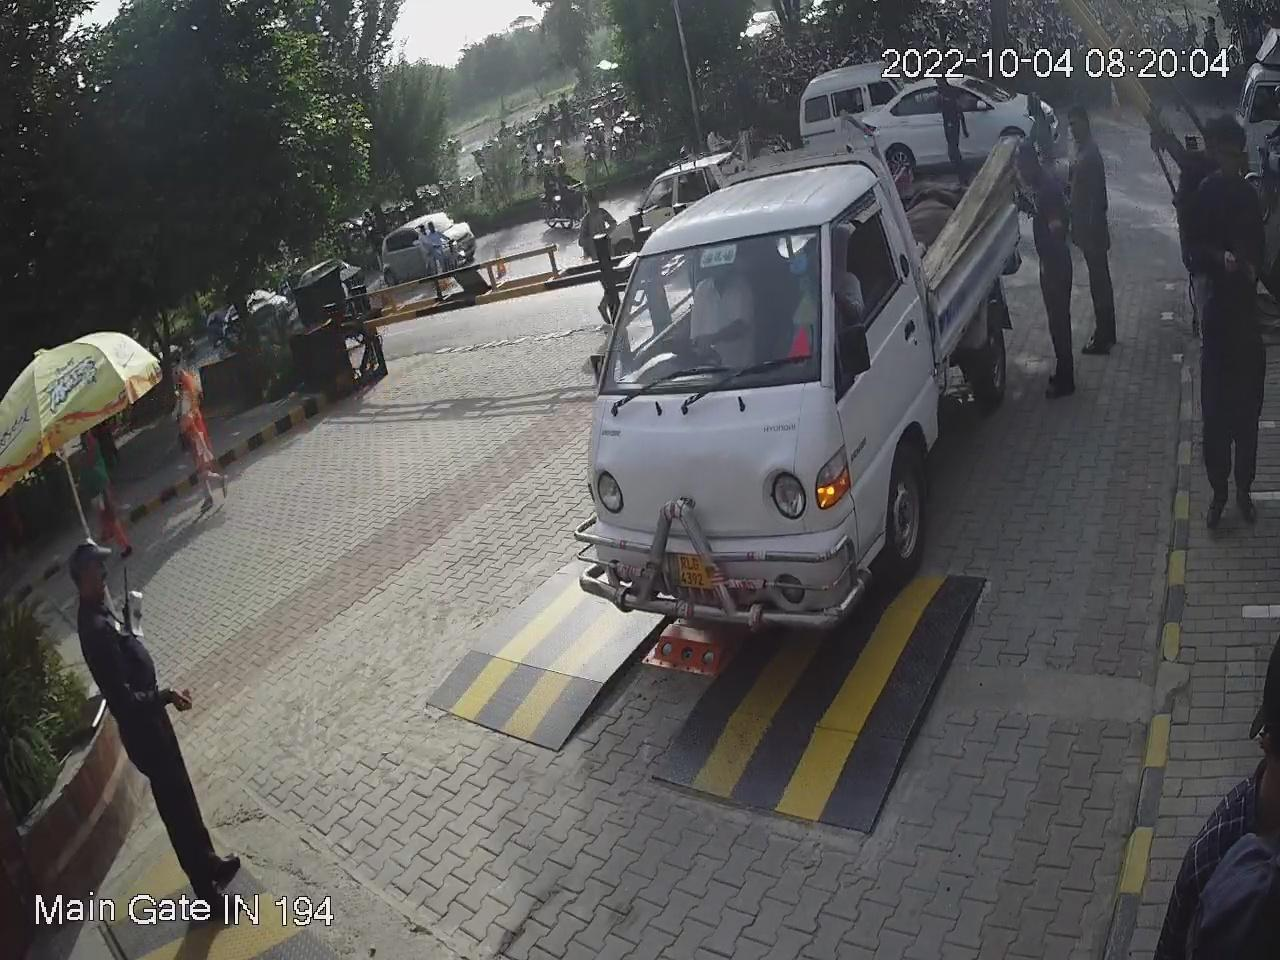windshield: (593, 220, 836, 407)
